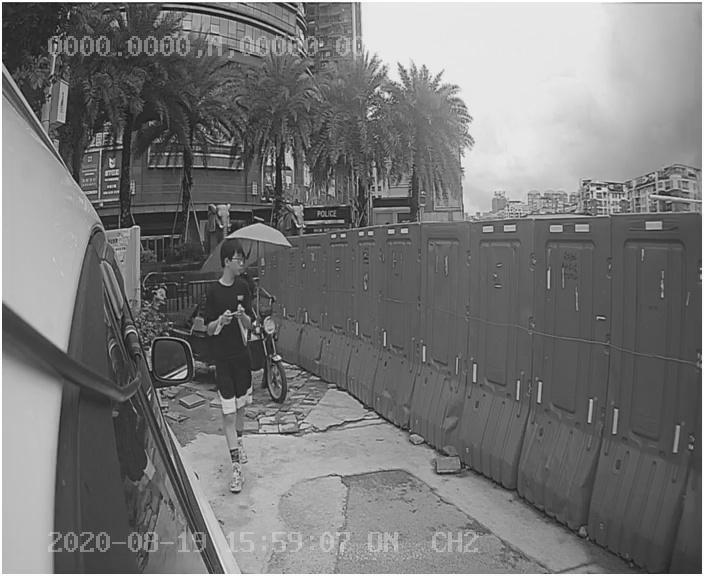person: (195, 240, 278, 494)
